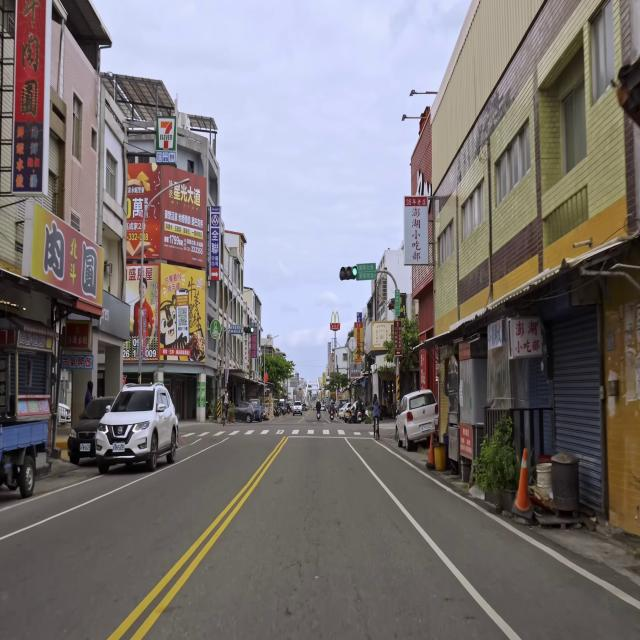green light: (339, 266, 358, 280), (244, 326, 254, 334)
